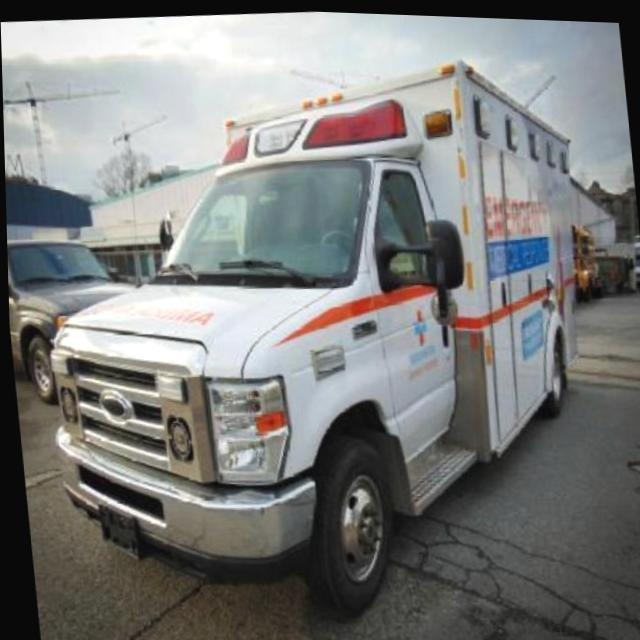emergency: (15, 32, 640, 640)
